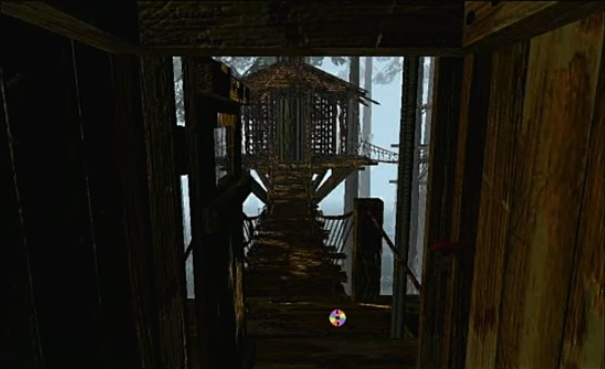Waiting: (325, 305, 349, 328)
